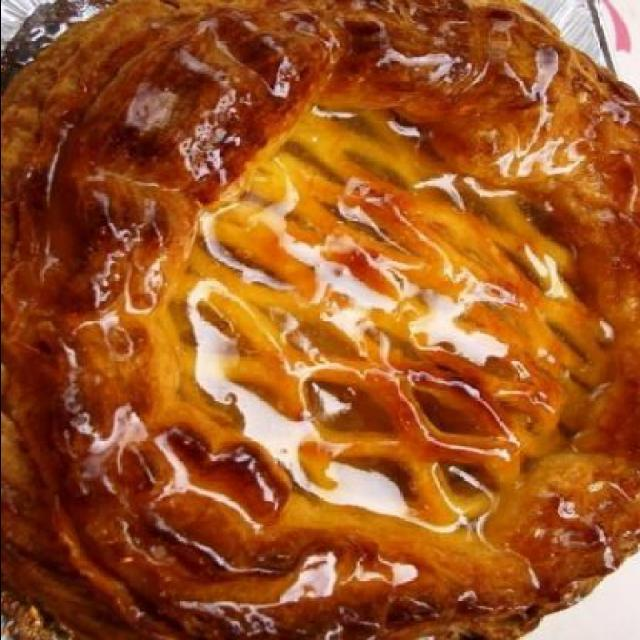Apple: (6, 2, 638, 634)
